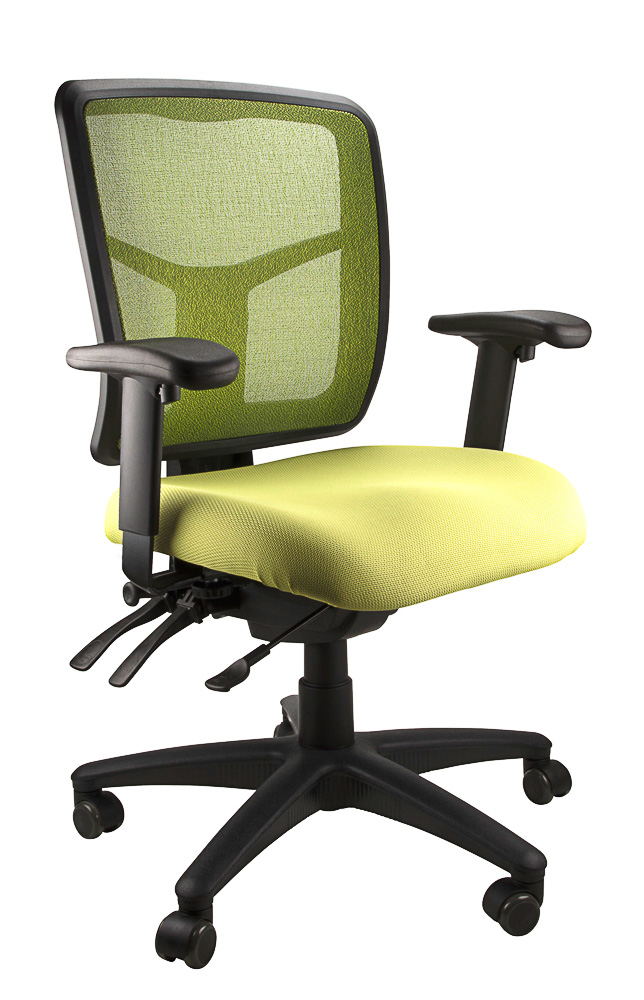chairs: (36, 67, 595, 971)
